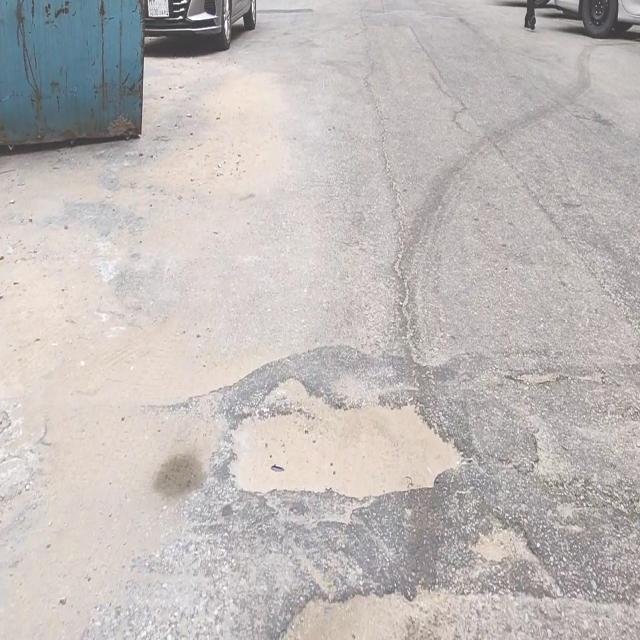Potholes: (229, 375, 468, 501), (274, 588, 417, 640)
